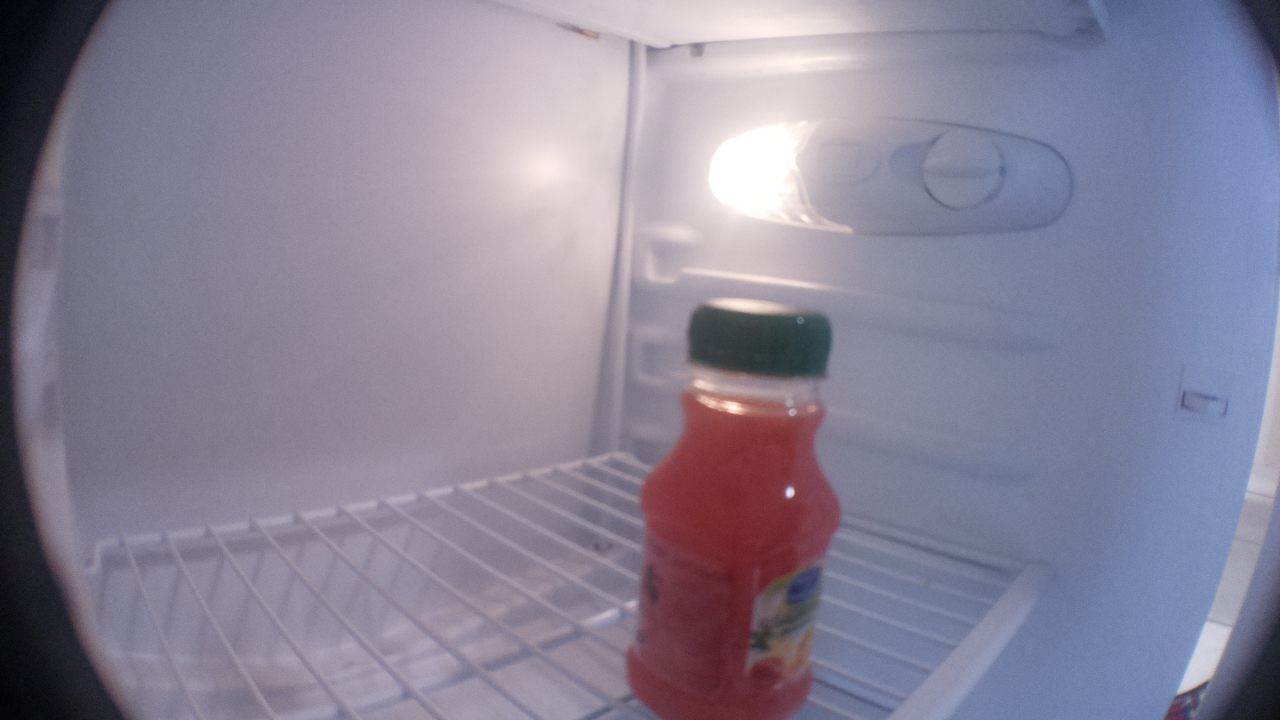juice: (624, 298, 846, 720)
